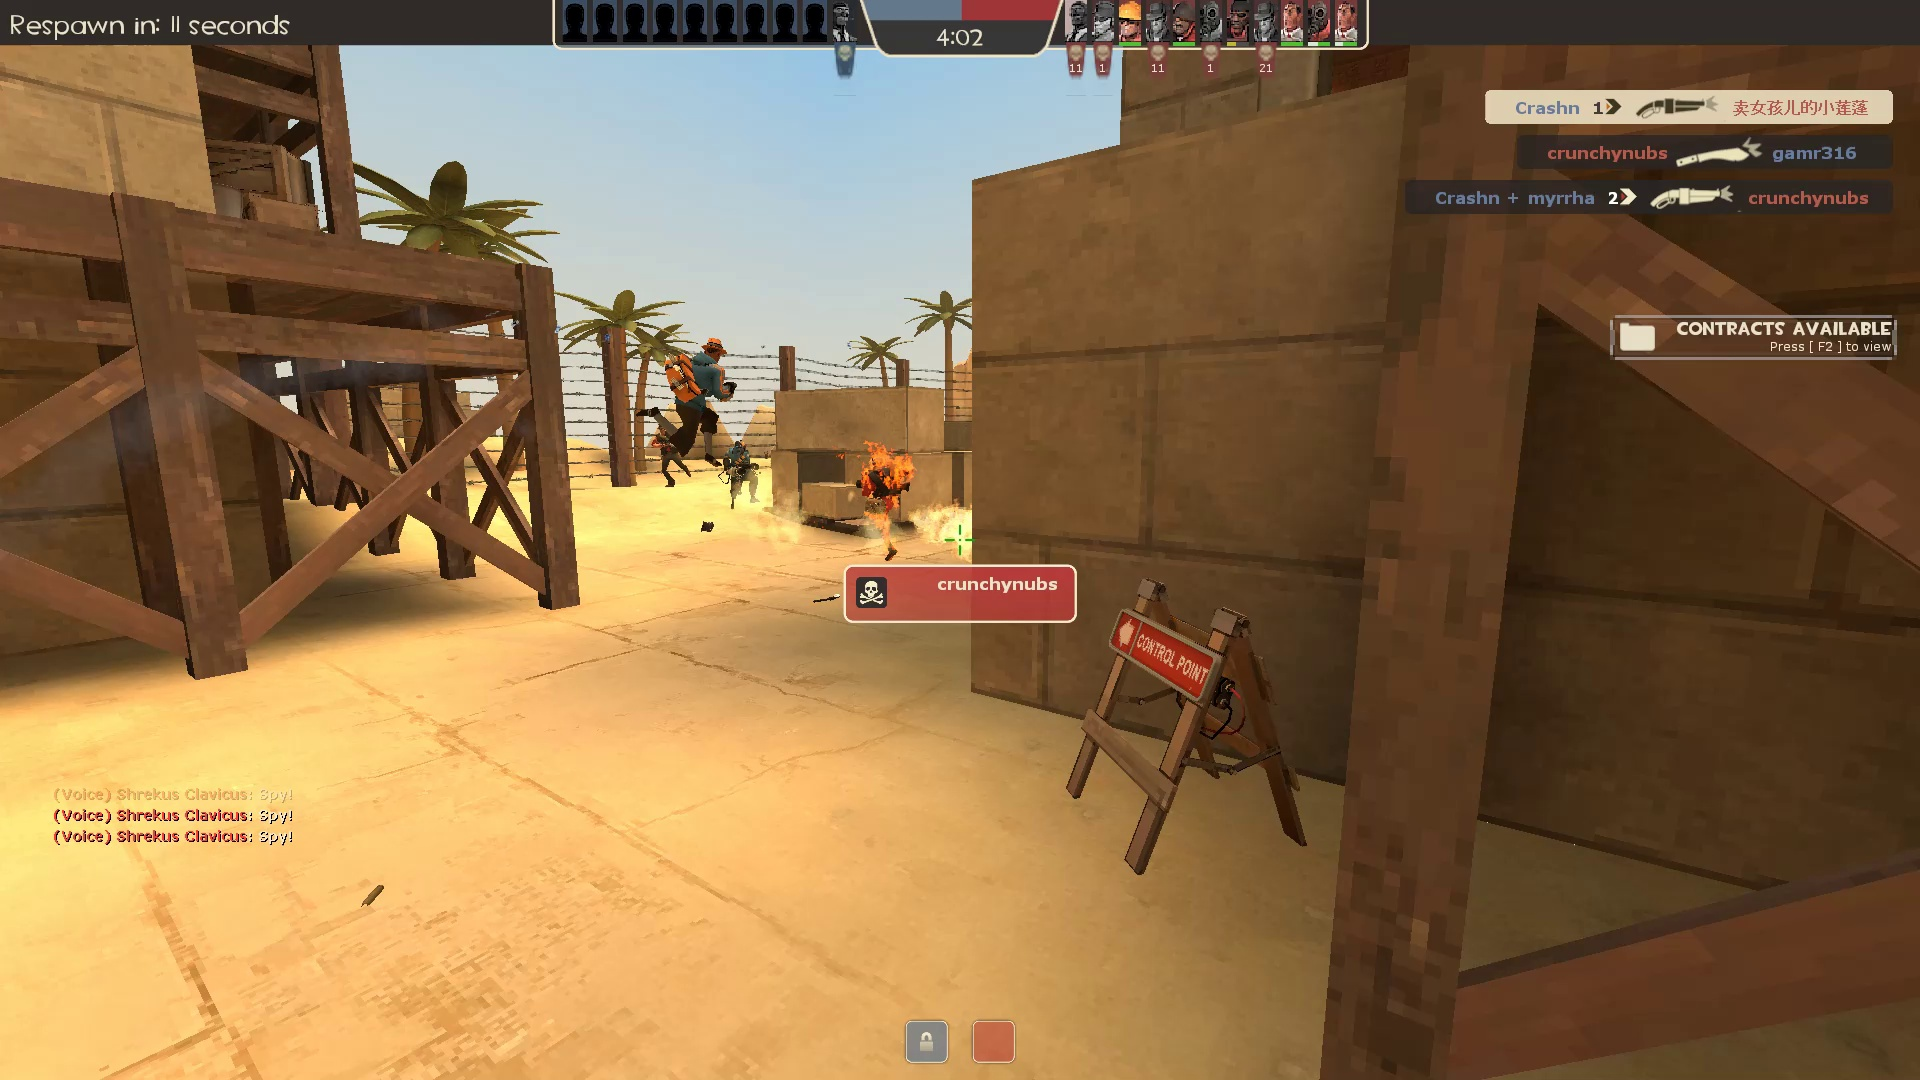blu_pyro: (713, 438, 766, 518)
blu_scout: (633, 331, 744, 473)
red_demo: (843, 446, 920, 566)
red_sniper: (644, 411, 696, 491)
